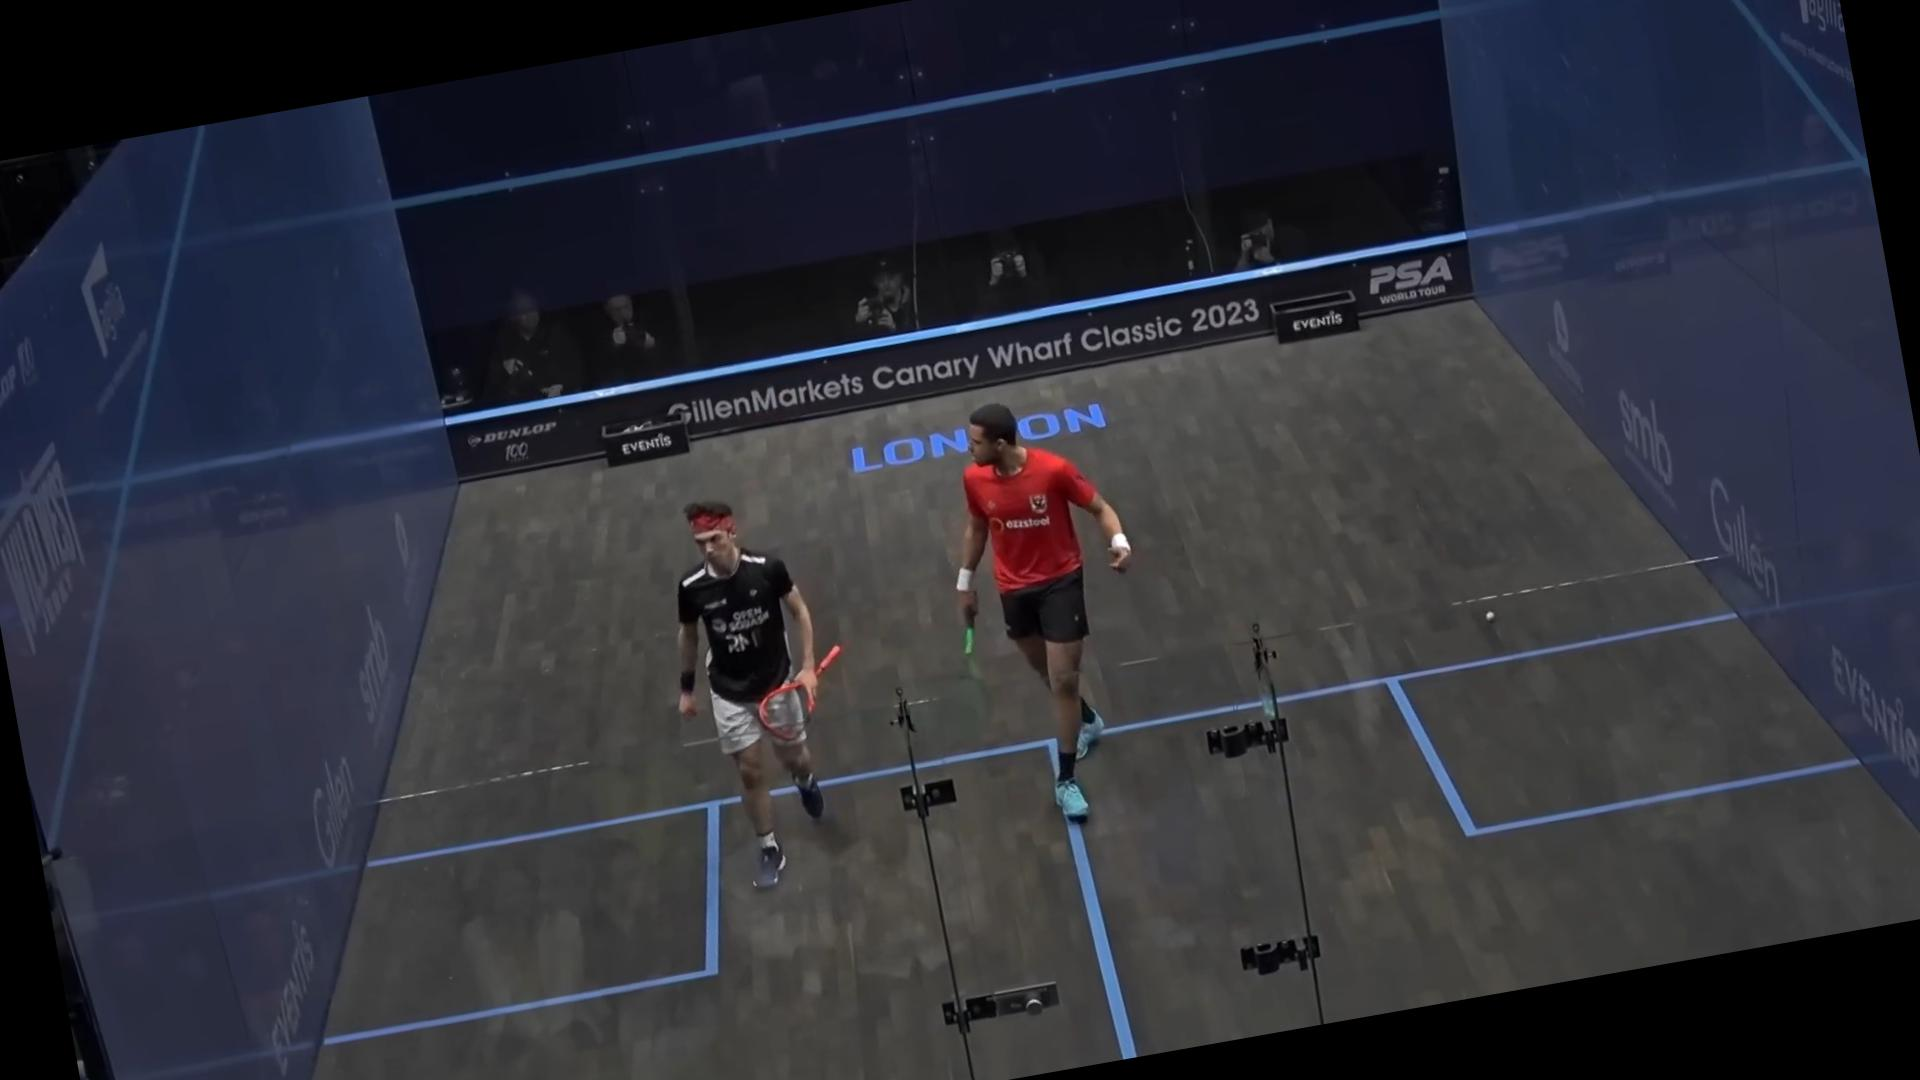Racket: (745, 636, 865, 752)
